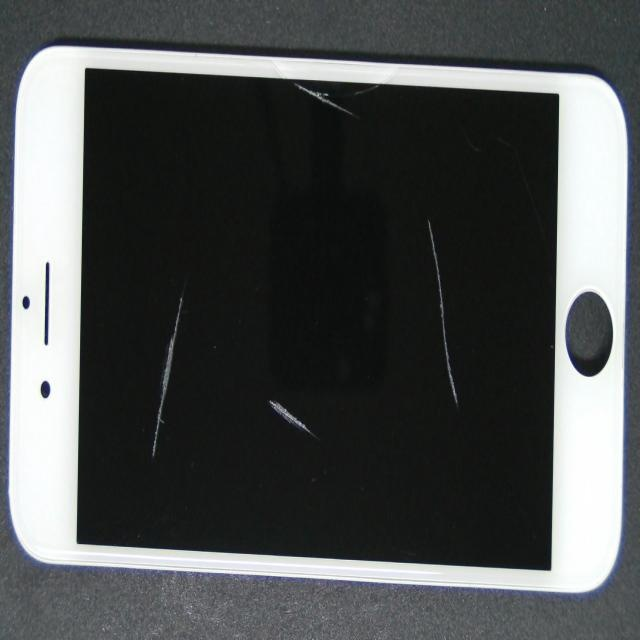scratch: (123, 150, 408, 608), (254, 327, 640, 519), (58, 232, 215, 640), (216, 56, 491, 133)
